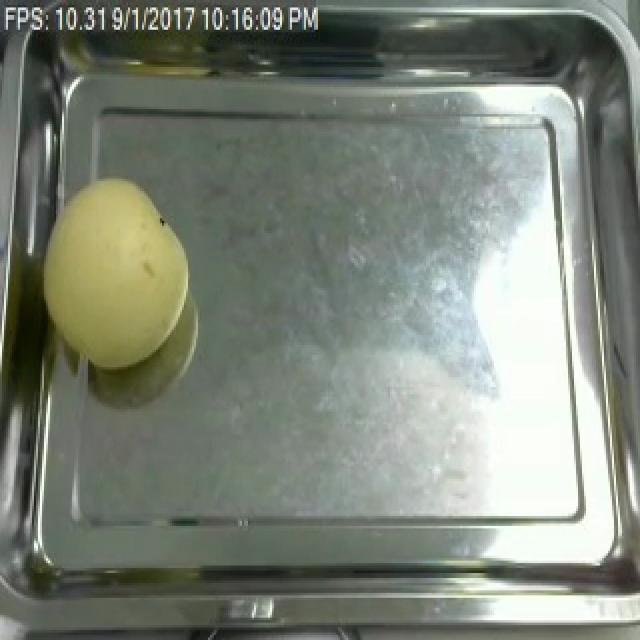Fruit: (32, 166, 200, 377)
